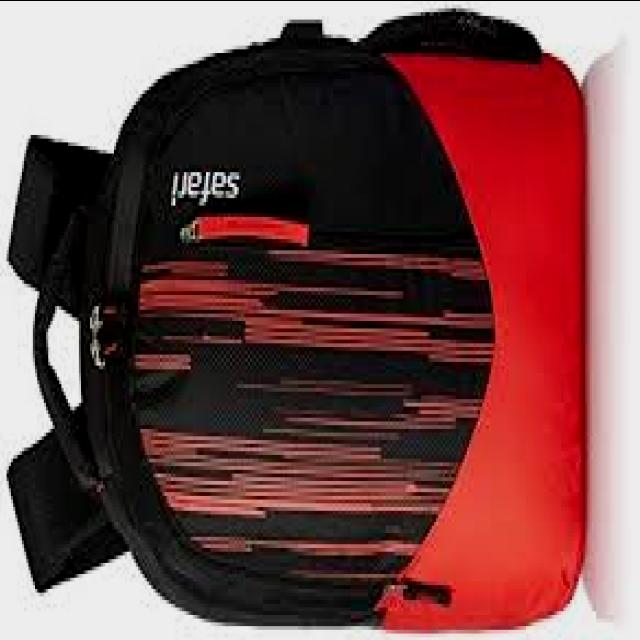backpack: (6, 9, 587, 638)
